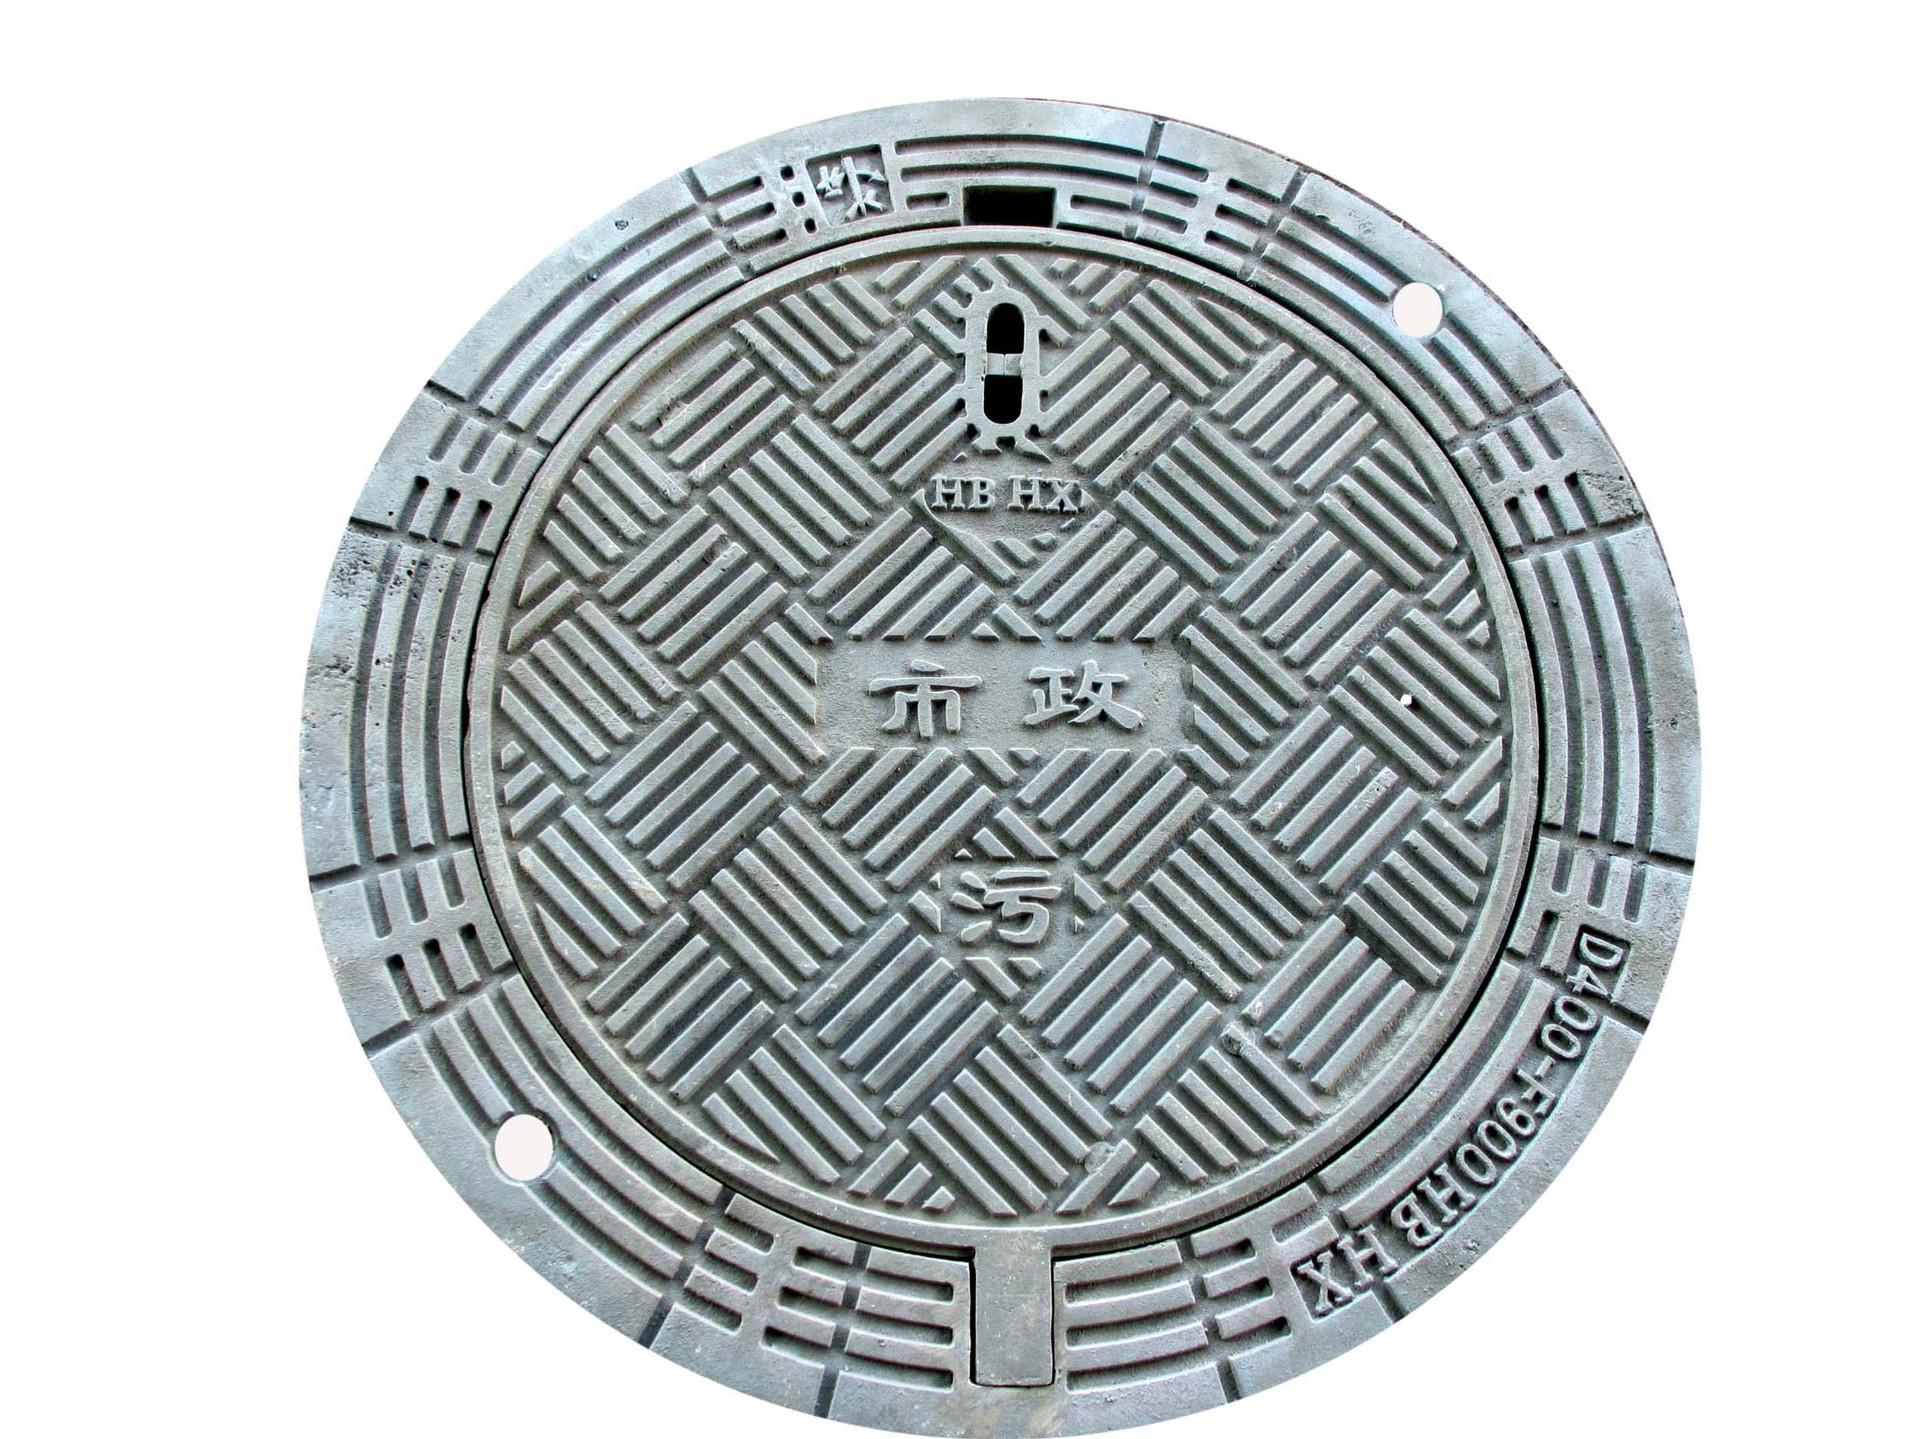wellcover: (298, 141, 1772, 1425)
